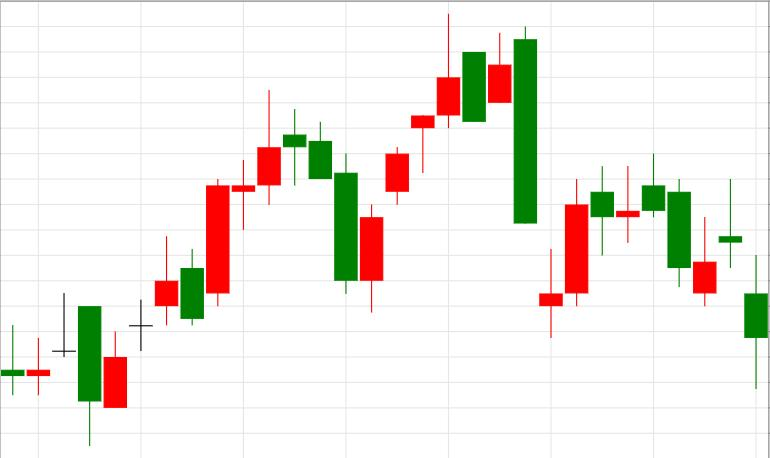bearish_engulfing_fall: (360, 13, 538, 312)
evening_star_fall: (206, 90, 333, 307)
shooting_star_fall: (361, 13, 461, 312)
